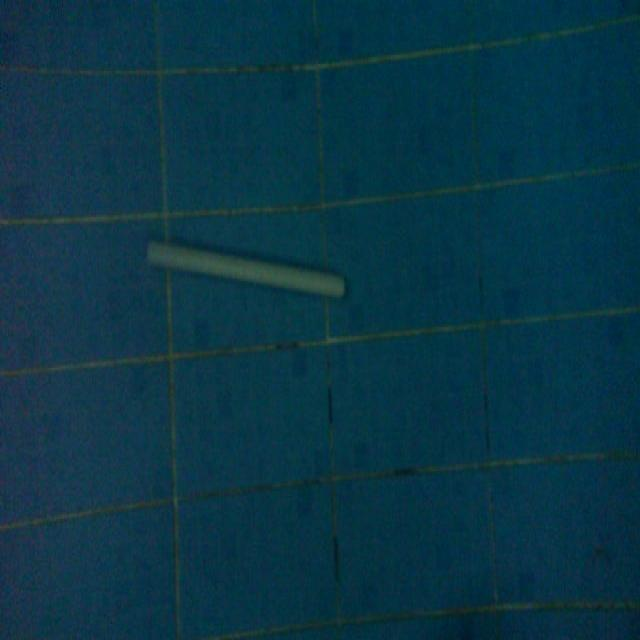Cube: (144, 233, 347, 304)
